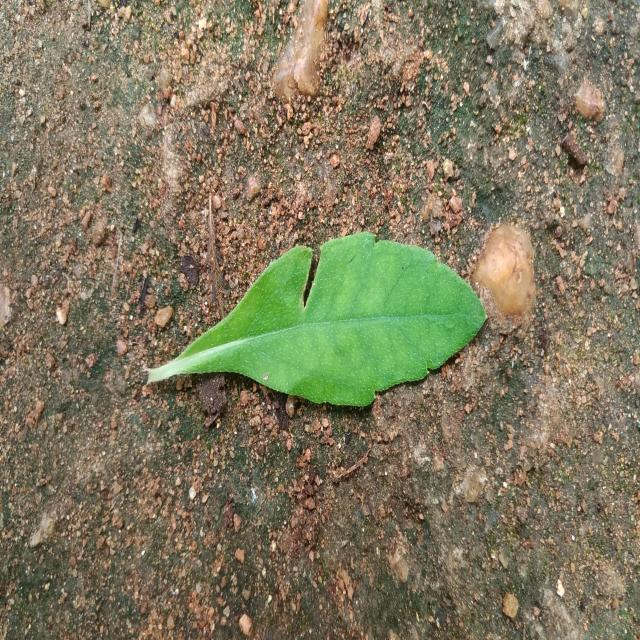bringaraja: (148, 233, 486, 407)
